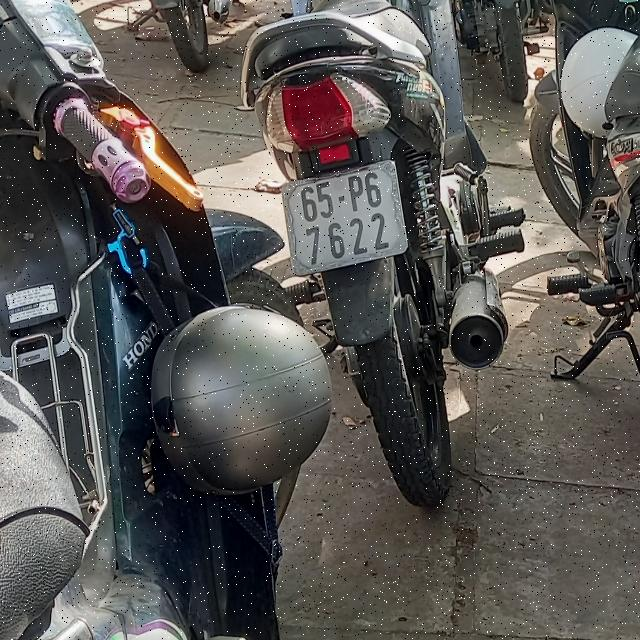2: (371, 213, 389, 249), (350, 218, 367, 254)
5: (316, 181, 334, 219)
6: (300, 186, 318, 222), (365, 172, 382, 208), (328, 222, 344, 260)
7: (306, 226, 320, 266)
P: (347, 175, 362, 214)
